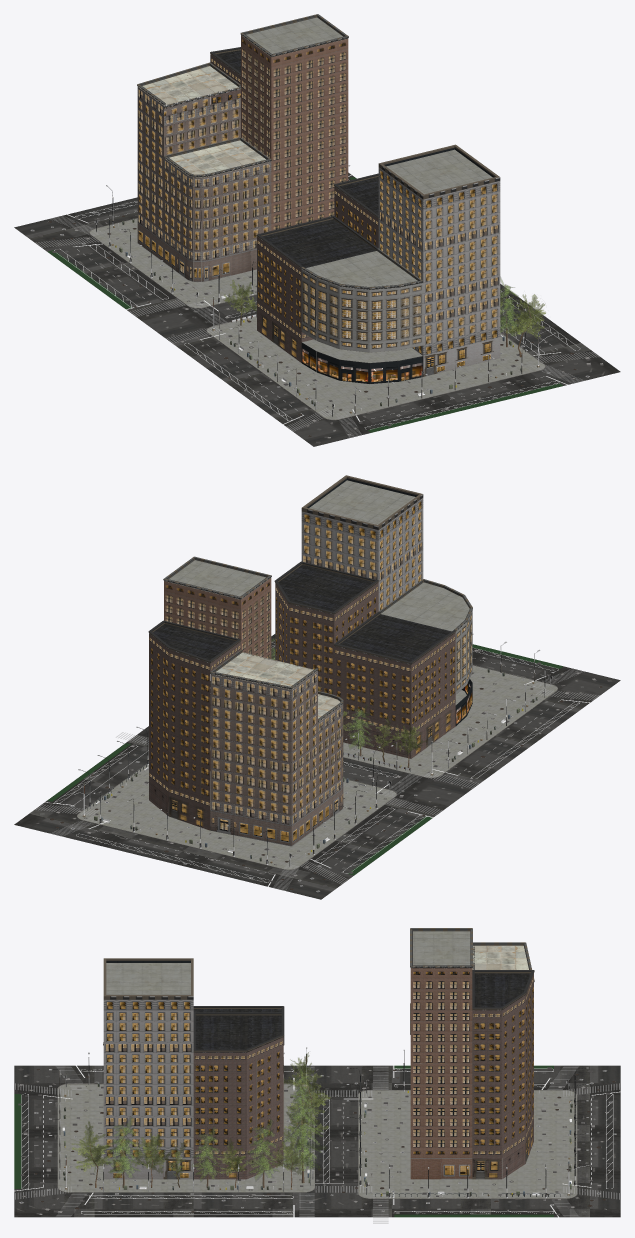
Rendered from tile1.gltf.
The picture shows the model from 3 angles, top to bottom: view 1: azimuth 30°, elevation 25°; view 2: azimuth 150°, elevation 25°; view 3: azimuth 270°, elevation 25°; orthographic projection.
Parts seen in each view (by area): view 1: CityGen Buildings.002_1, CityGen Buildings_0; view 2: CityGen Buildings.002_1, CityGen Buildings_0; view 3: CityGen Buildings.002_1, CityGen Buildings_0.
Boxes of the visible parts, x1,y1,x2,y2 form: CityGen Buildings.002_1: [137, 14, 500, 383]; CityGen Buildings_0: [14, 165, 620, 446]; CityGen Buildings.002_1: [148, 475, 472, 846]; CityGen Buildings_0: [14, 633, 620, 899]; CityGen Buildings.002_1: [103, 928, 534, 1179]; CityGen Buildings_0: [14, 1047, 620, 1223].
Bounding box in the file's own units: 96.43 × 60.62 × 156.
Materials: 26 (23 with a texture image).
